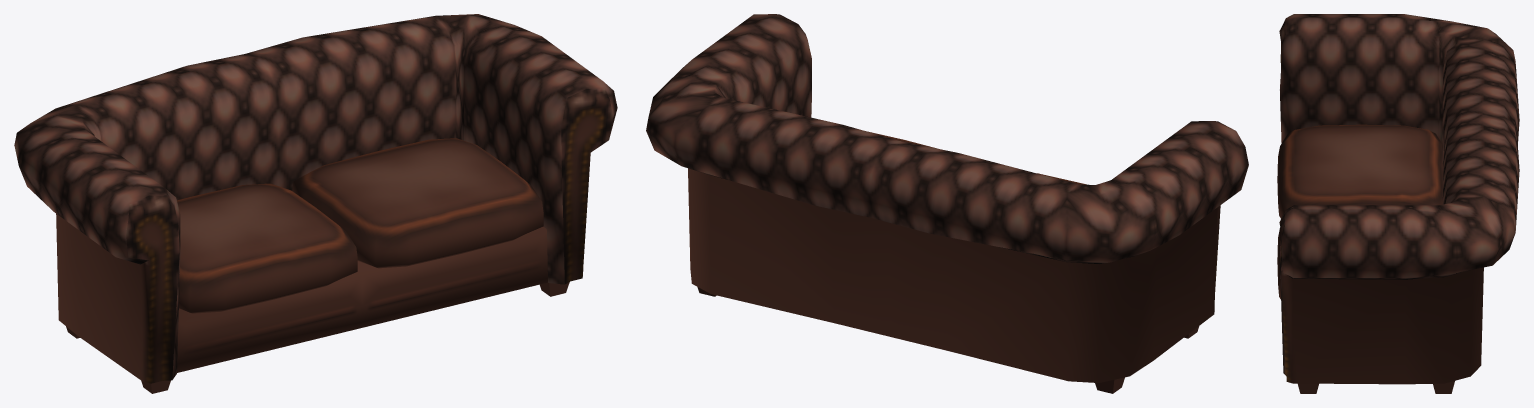
Rendered from SM_Sofa.fbx.
3 renders of one model, left to right at view 1: azimuth 30°, elevation 25°; view 2: azimuth 150°, elevation 25°; view 3: azimuth 270°, elevation 25°, orthographic. The views are drawn at different scales.
Visible parts, largest first — view 1: Sofa001; view 2: Sofa001; view 3: Sofa001.
Part boxes in pixels (x1,y1,x2,y2): Sofa001: (14, 14, 617, 393); Sofa001: (646, 14, 1248, 393); Sofa001: (1277, 14, 1519, 393).
Bounding box in the file's own units: 178 × 81.95 × 71.51.
Materials: 1 (1 with a texture image).
